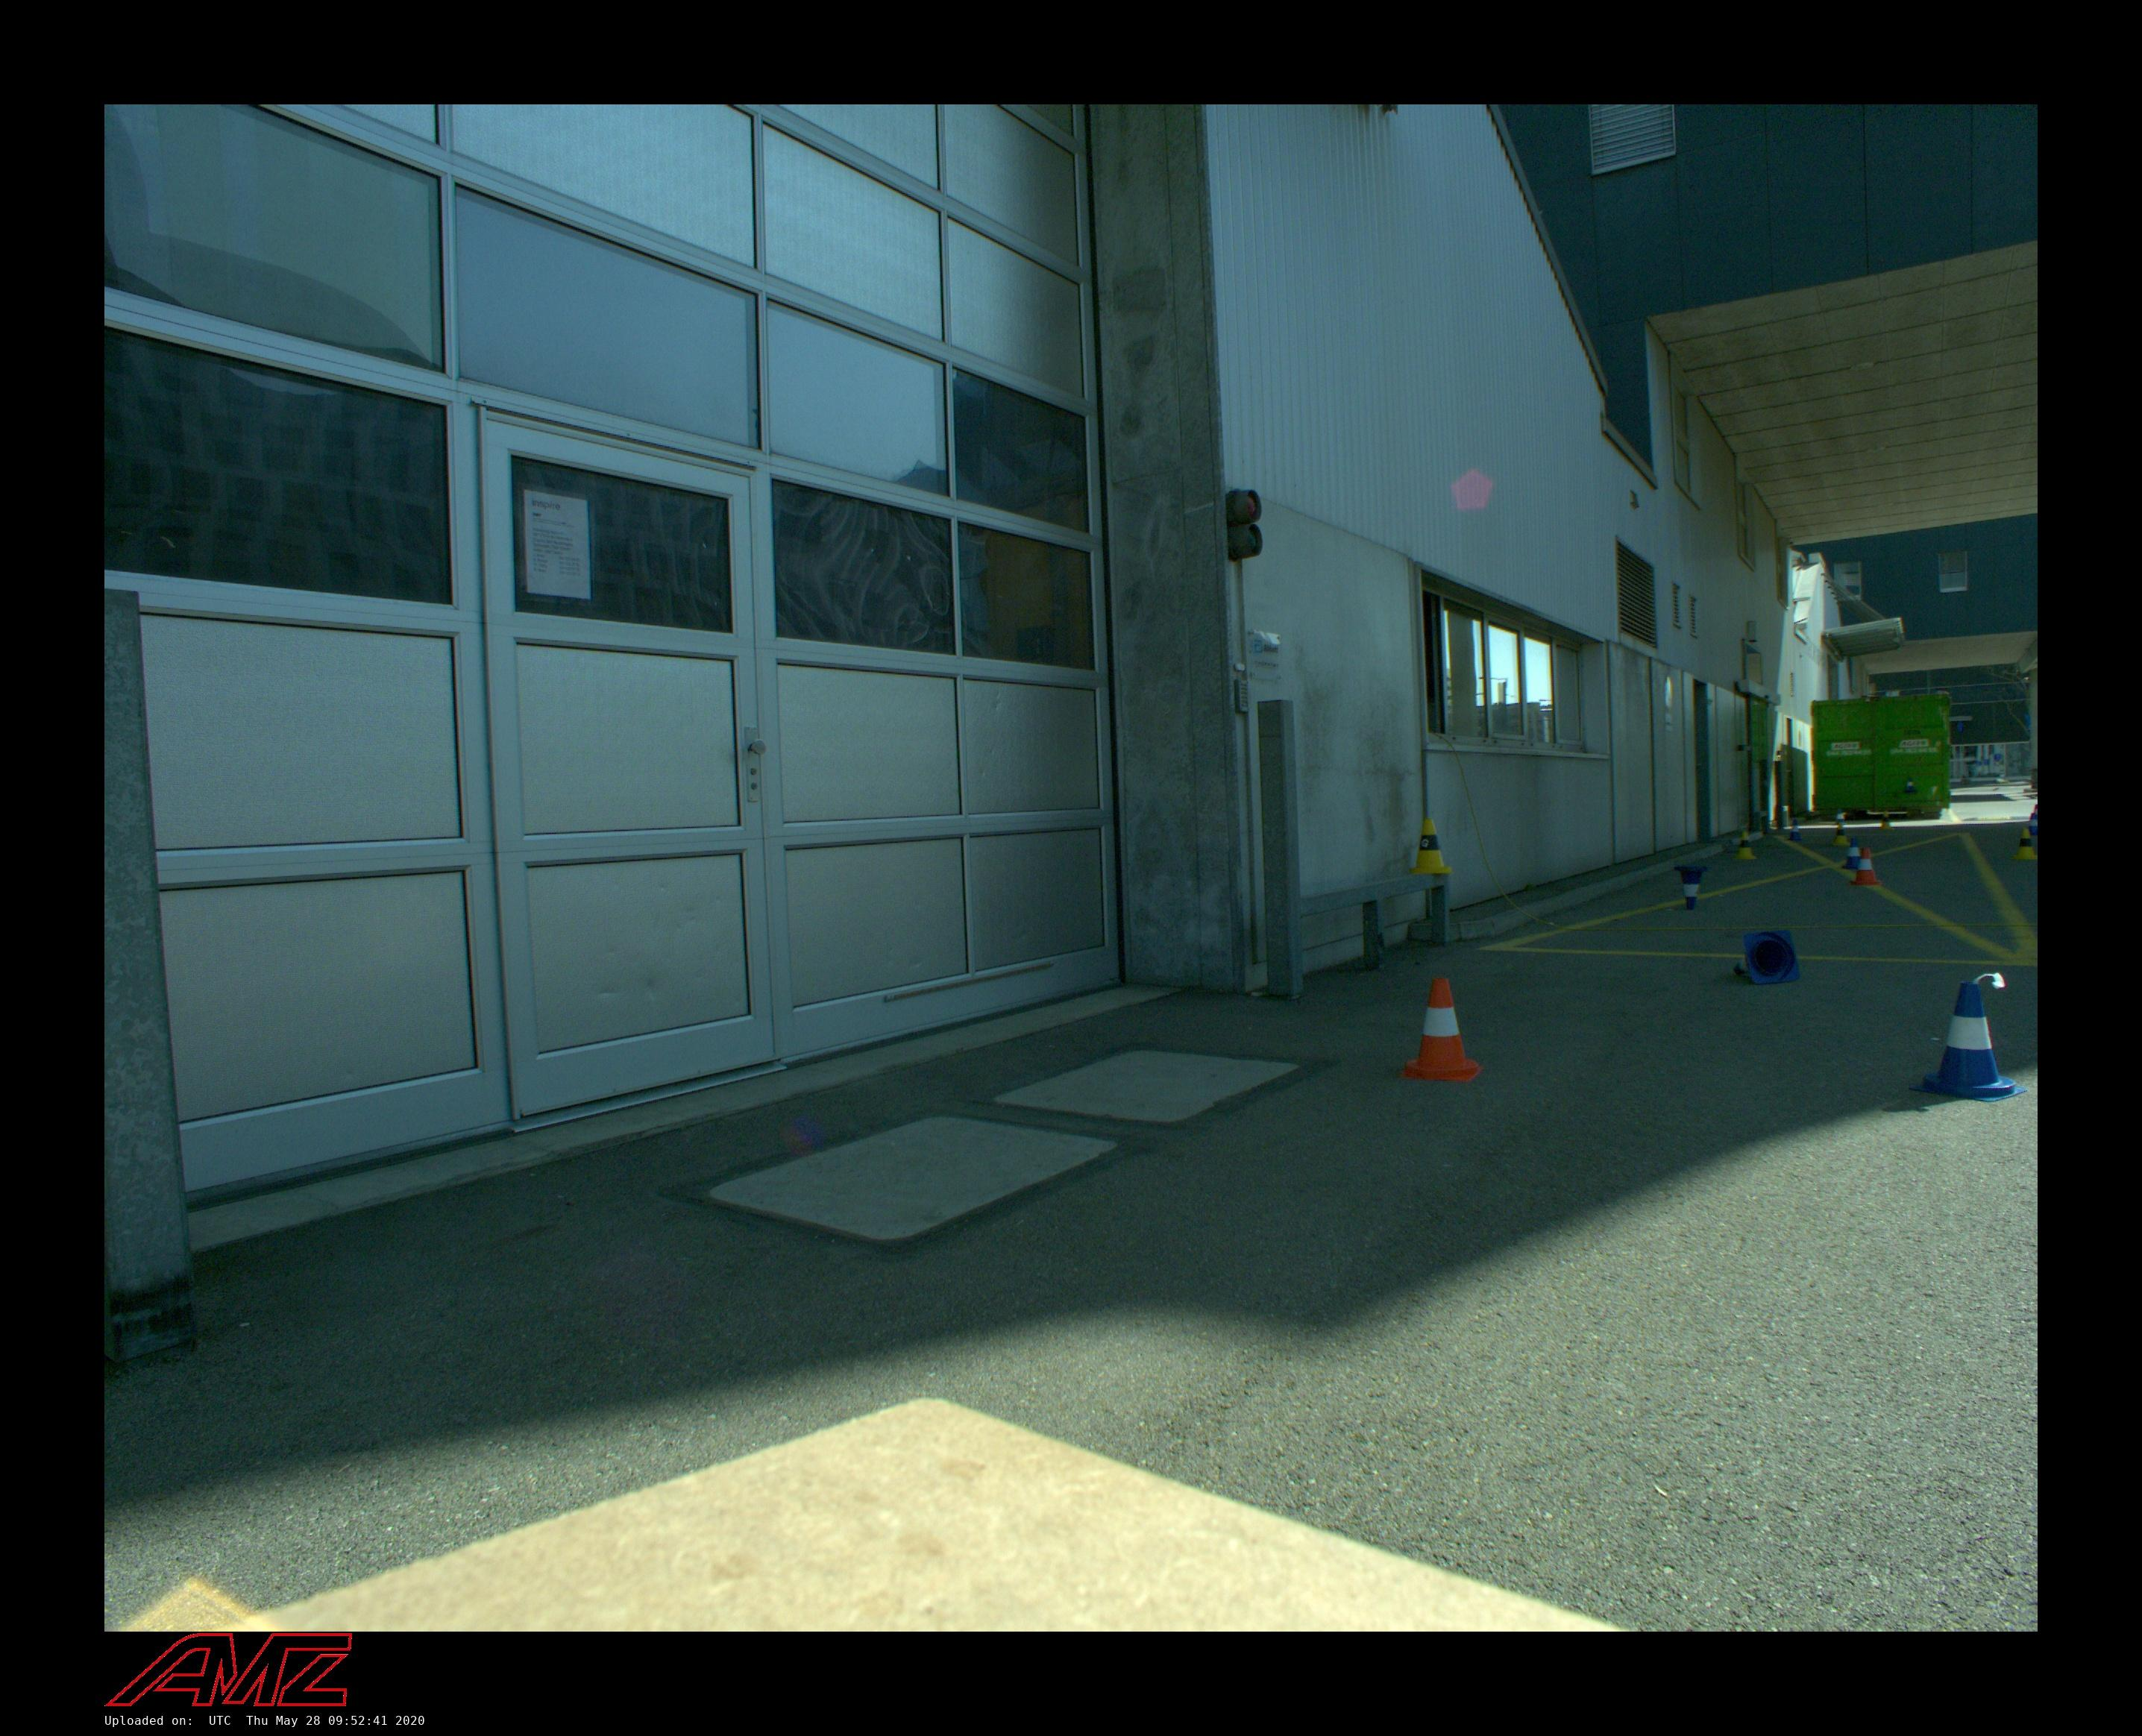blue_cone: (1909, 981, 2027, 1102), (1733, 930, 1800, 984), (1674, 865, 1709, 911), (1842, 838, 1865, 869), (1787, 820, 1803, 841), (2026, 813, 2037, 835), (1834, 808, 1846, 825), (2029, 805, 2037, 822)
orange_cone: (1398, 978, 1483, 1082), (1850, 847, 1882, 886)
yellow_cone: (1409, 818, 1452, 874), (2011, 828, 2037, 861), (1734, 831, 1757, 860), (1832, 822, 1850, 846), (1877, 811, 1894, 831)
